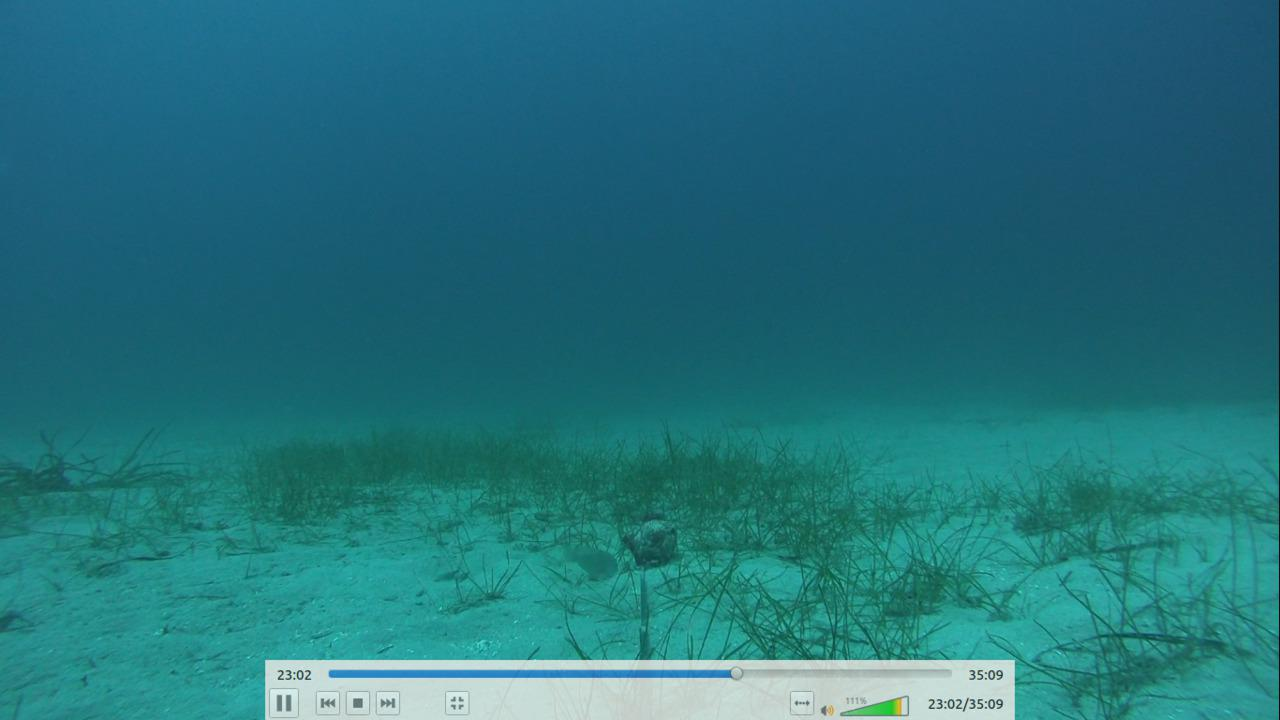raor: (549, 541, 625, 581)
